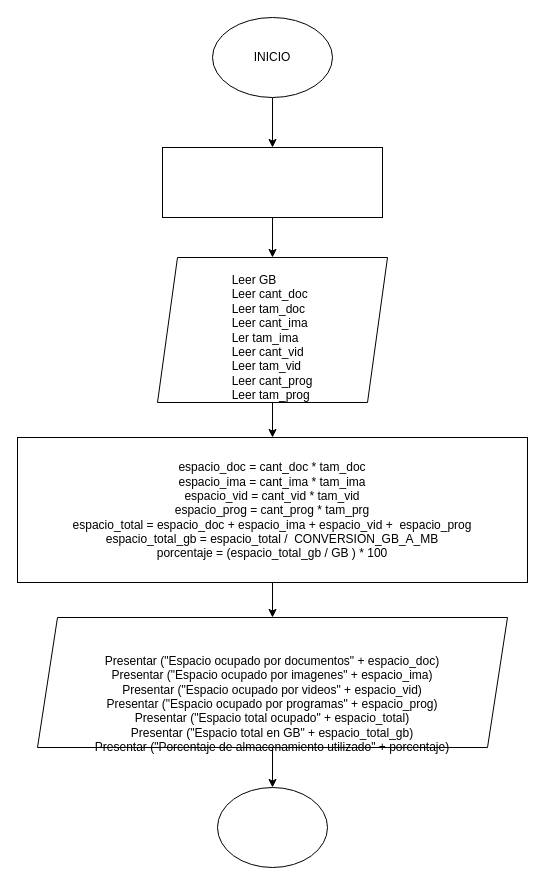
Image size: 545x885. Some labels were removed from this diagram. Here are the shapes that lost their labels. From the top down, the centre of each, then its label:
(x=272, y=182): CONVERSION_GB_A_MB= 1024
(x=272, y=827): FIN
